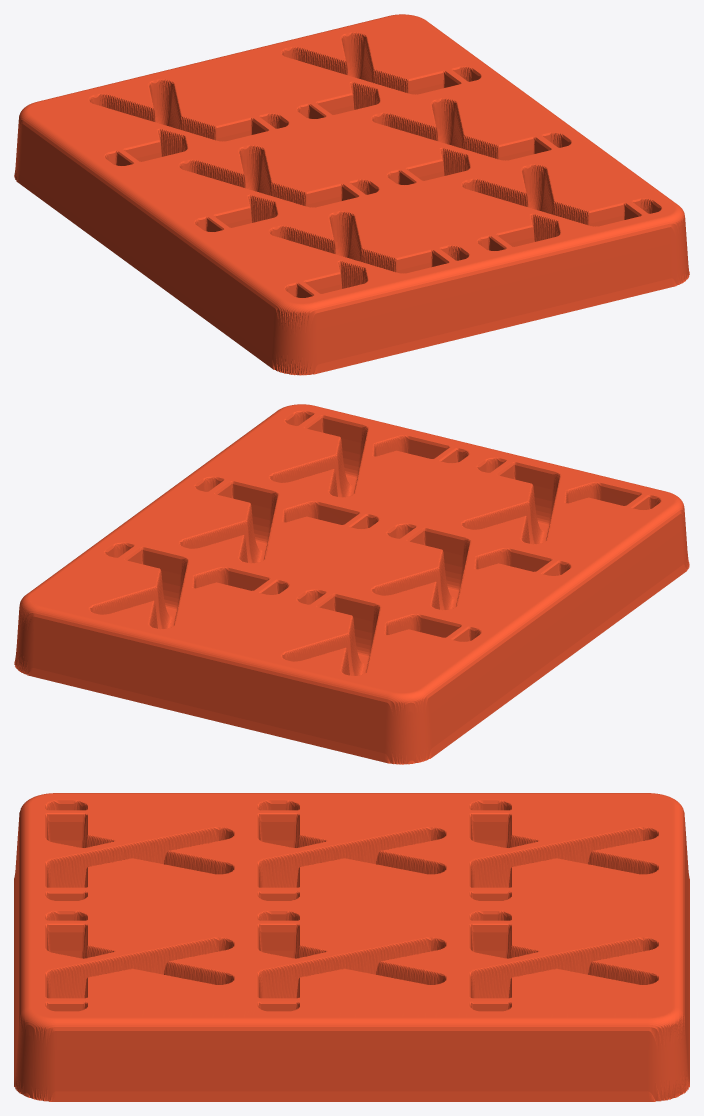
The model's file is mold.glb.
3 views of the same model, one above another, from view 1: azimuth 30°, elevation 25°; view 2: azimuth 150°, elevation 25°; view 3: azimuth 270°, elevation 25° (orthographic). The views are drawn at different scales.
Visible parts, largest first — view 1: geometry_0; view 2: geometry_0; view 3: geometry_0.
Boxes of the visible parts, bbox=[...] form: geometry_0: bbox=[14, 14, 689, 375]; geometry_0: bbox=[14, 404, 689, 764]; geometry_0: bbox=[14, 793, 689, 1101].
Bounding box in the file's own units: 0.1222 × 0.0185 × 0.1469.
